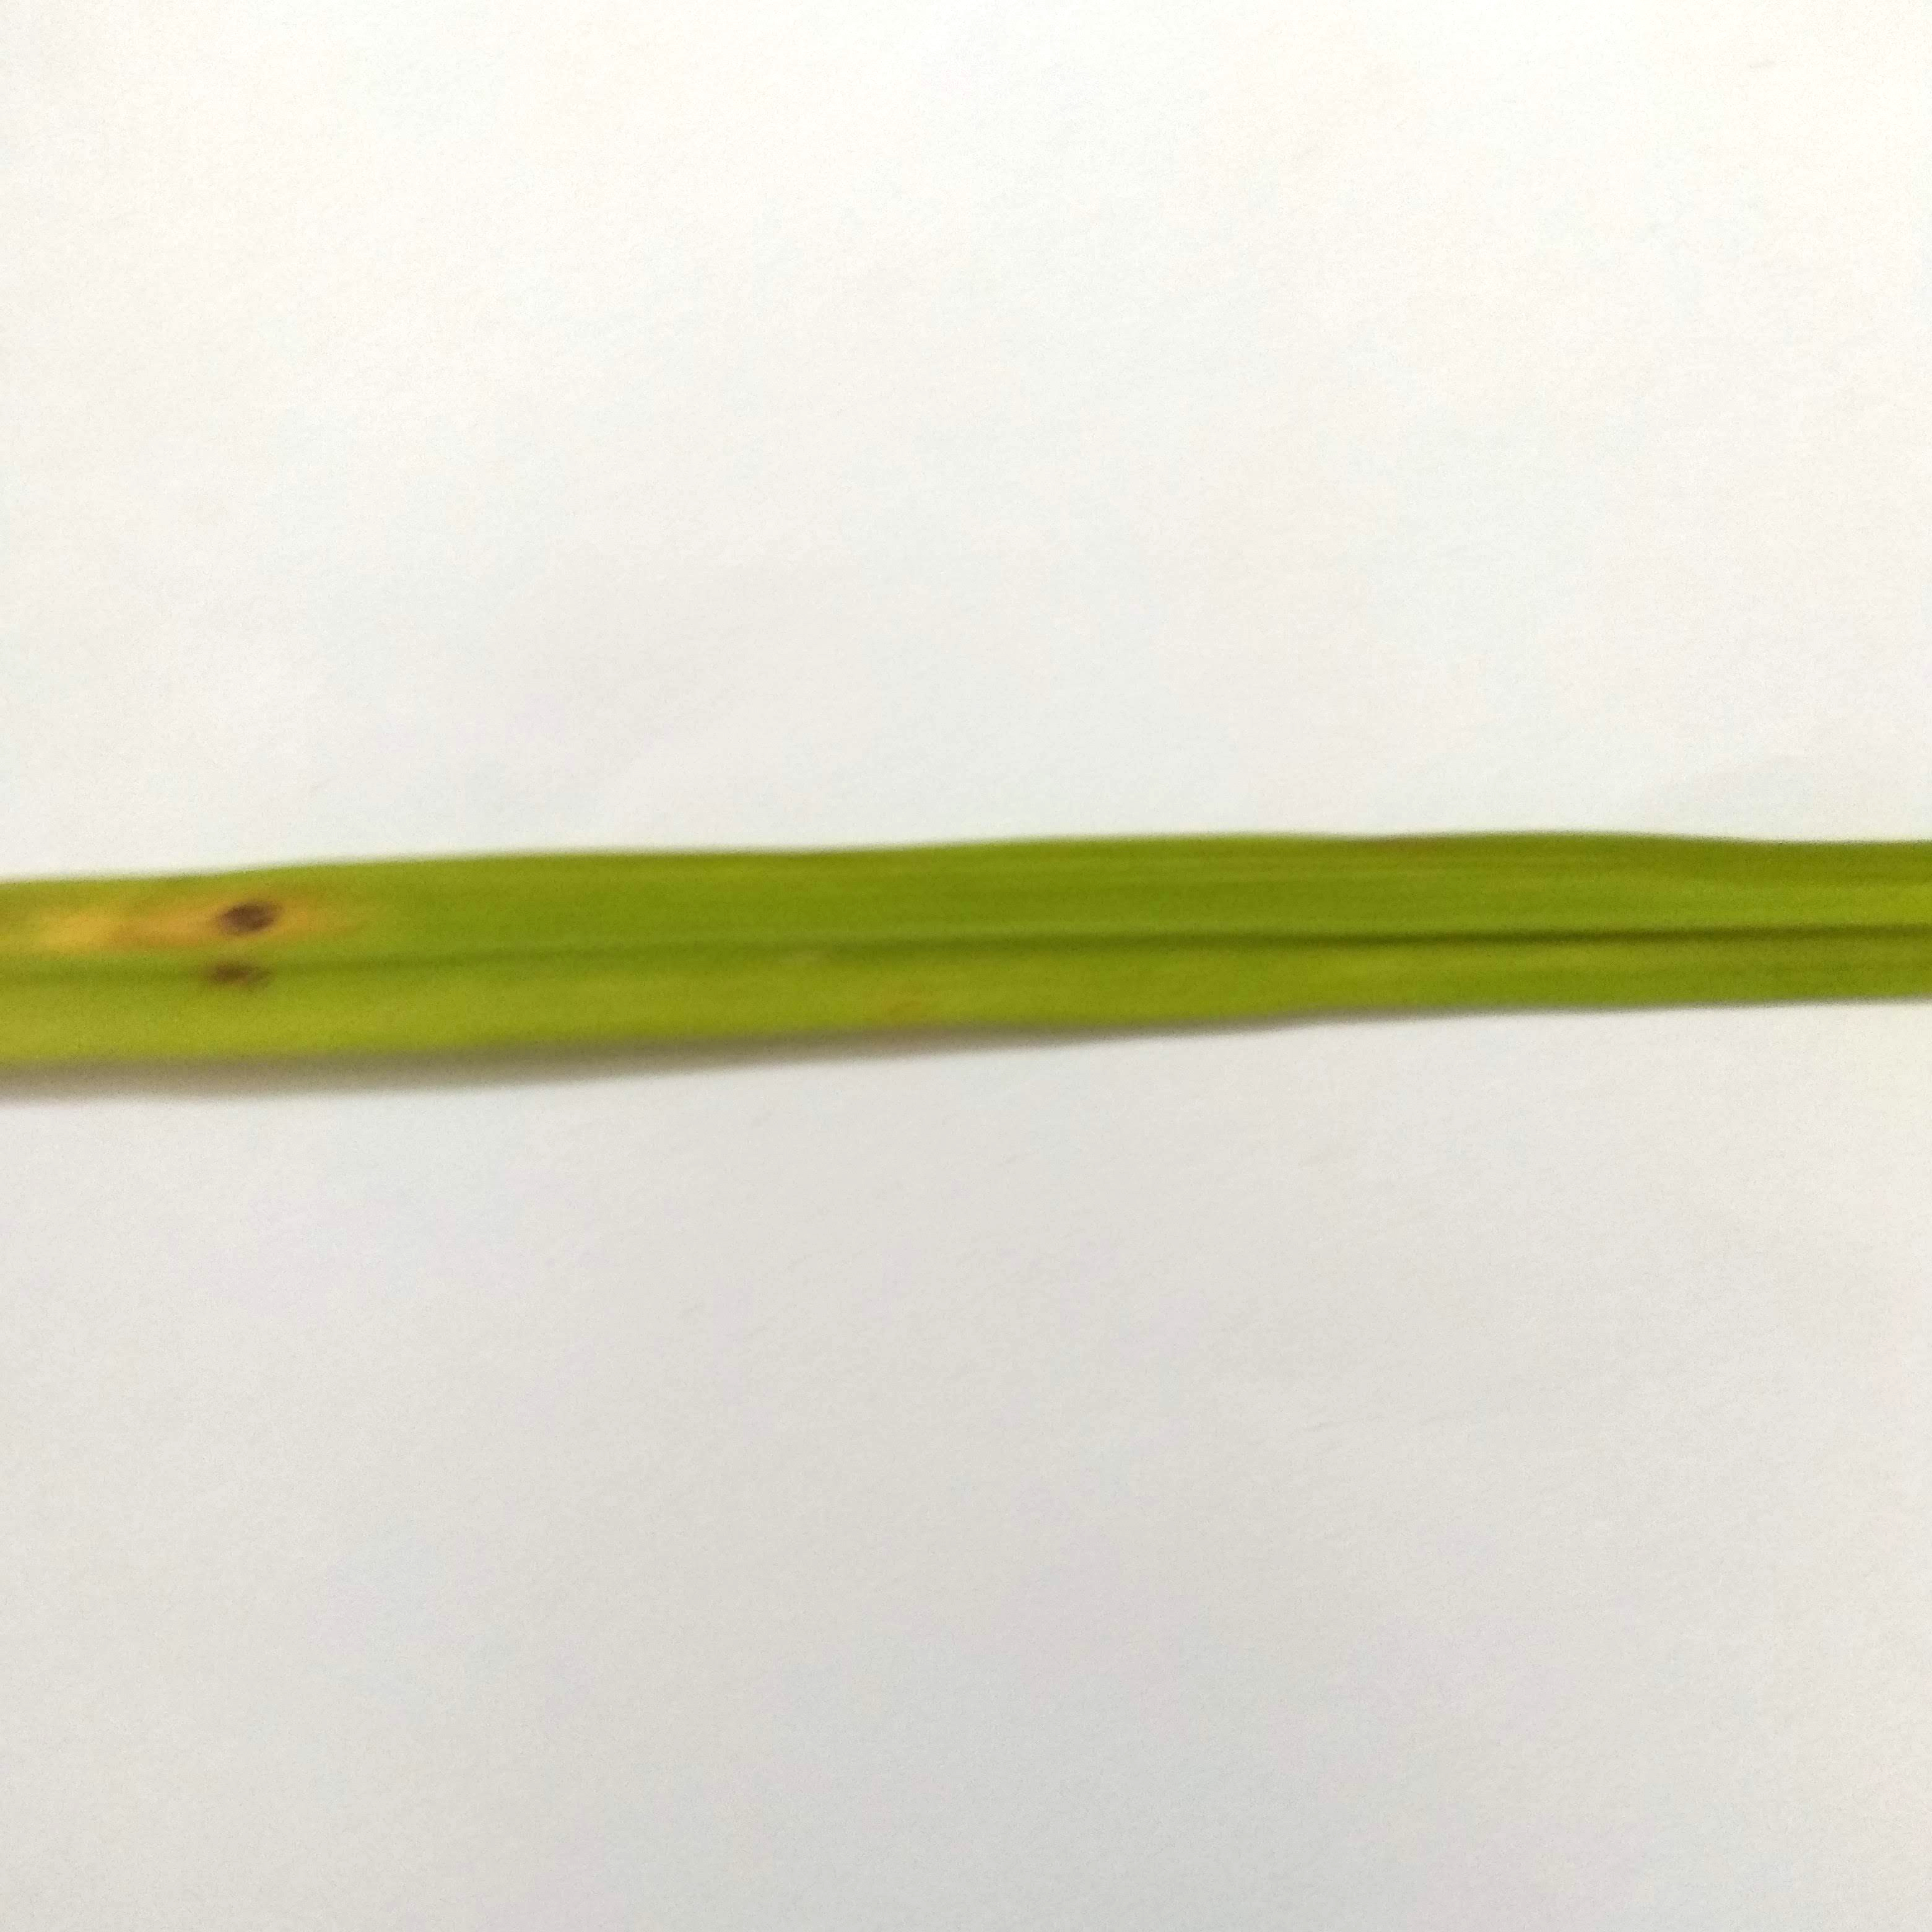brown spot: (199, 885, 300, 945), (176, 951, 281, 998)
